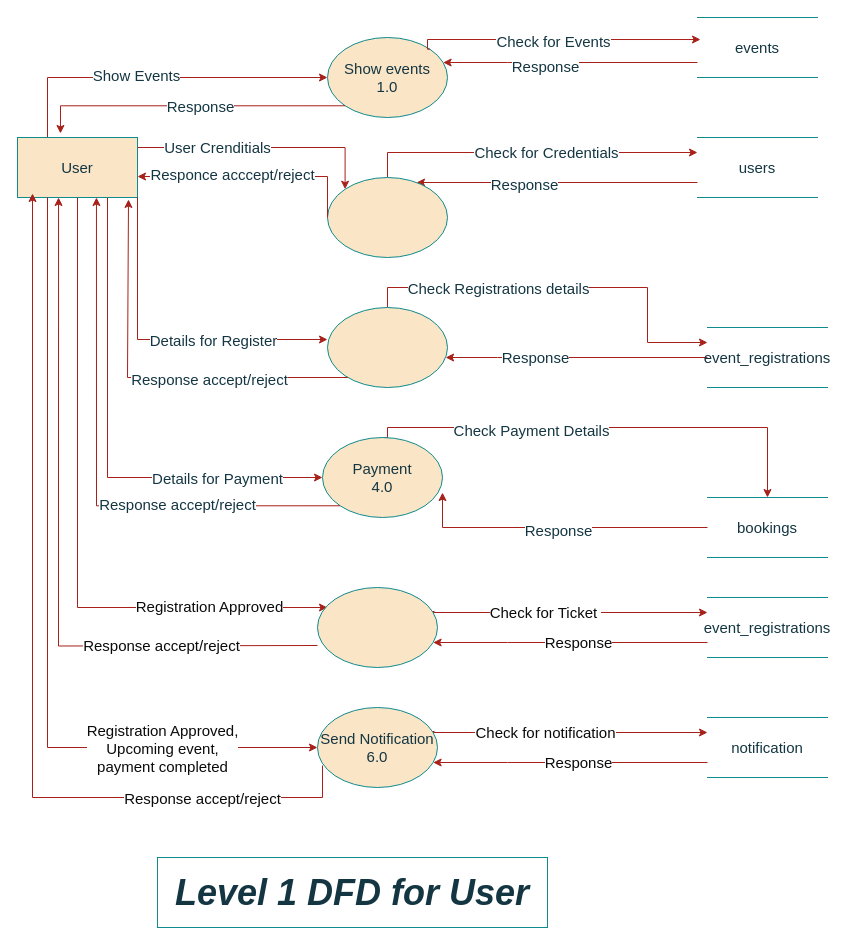
This 848x945 diagram has some shape labels left out. Each missing label, with the centre of its shape:
"Generate Ticket 5.0" belongs at (377,627).
"Register / Login 2.0" belongs at (387,217).
"Register Event 3.0" belongs at (387,347).
